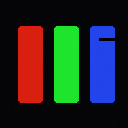3 line_h: (99, 38, 117, 40)
